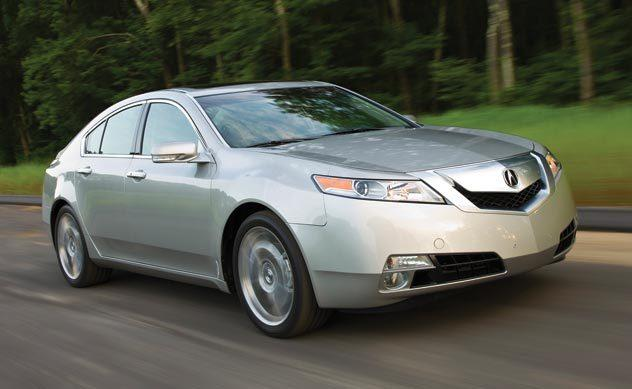car: (14, 71, 619, 342)
